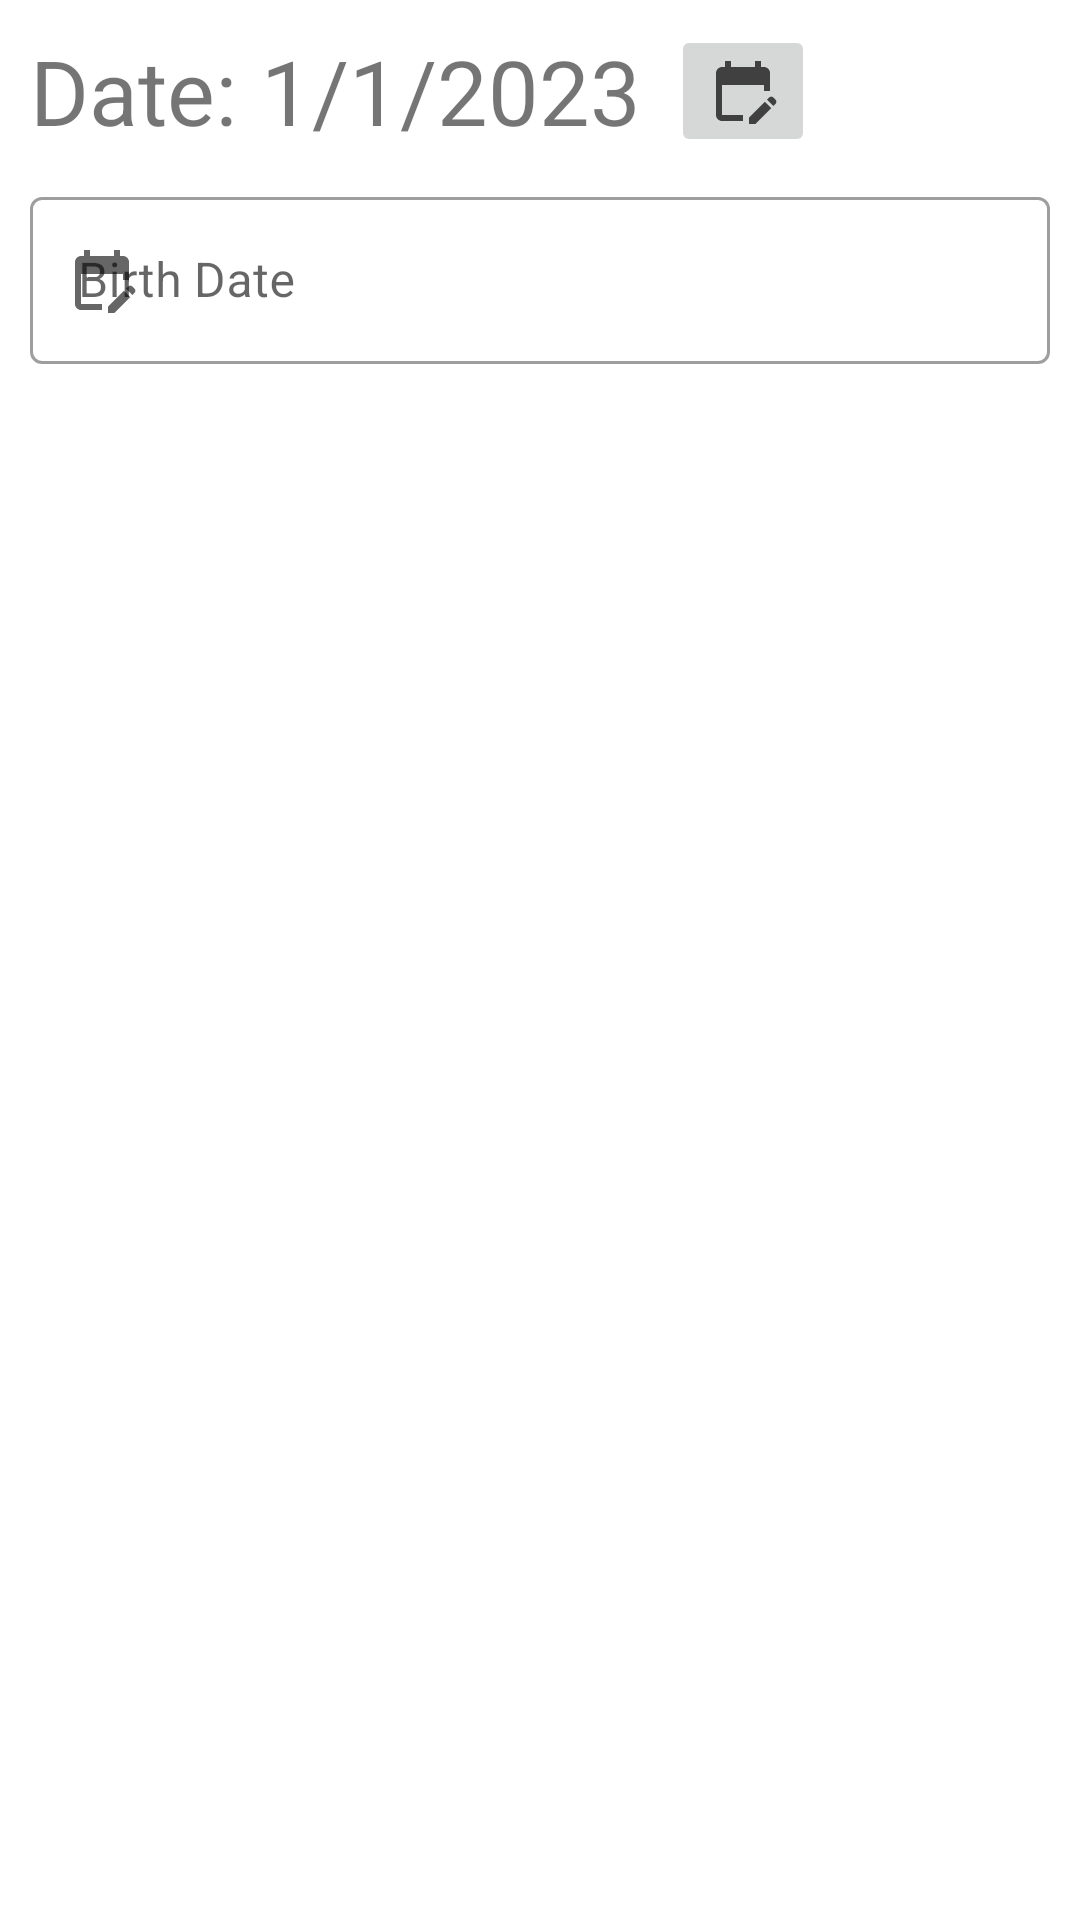

Icon bounding boxes for this 1080px×1920px phone screenshot, format (x1, y1, x2, y2):
edit calendar: (683, 43, 803, 139)
